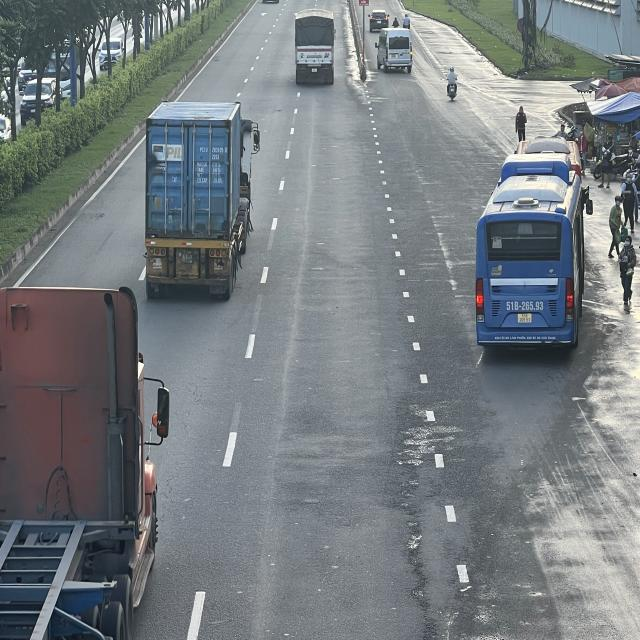car: (371, 9, 392, 32)
coach: (477, 145, 592, 350)
container: (0, 281, 170, 640), (141, 99, 257, 300)
truck: (293, 7, 334, 83)
van: (376, 27, 412, 74)
